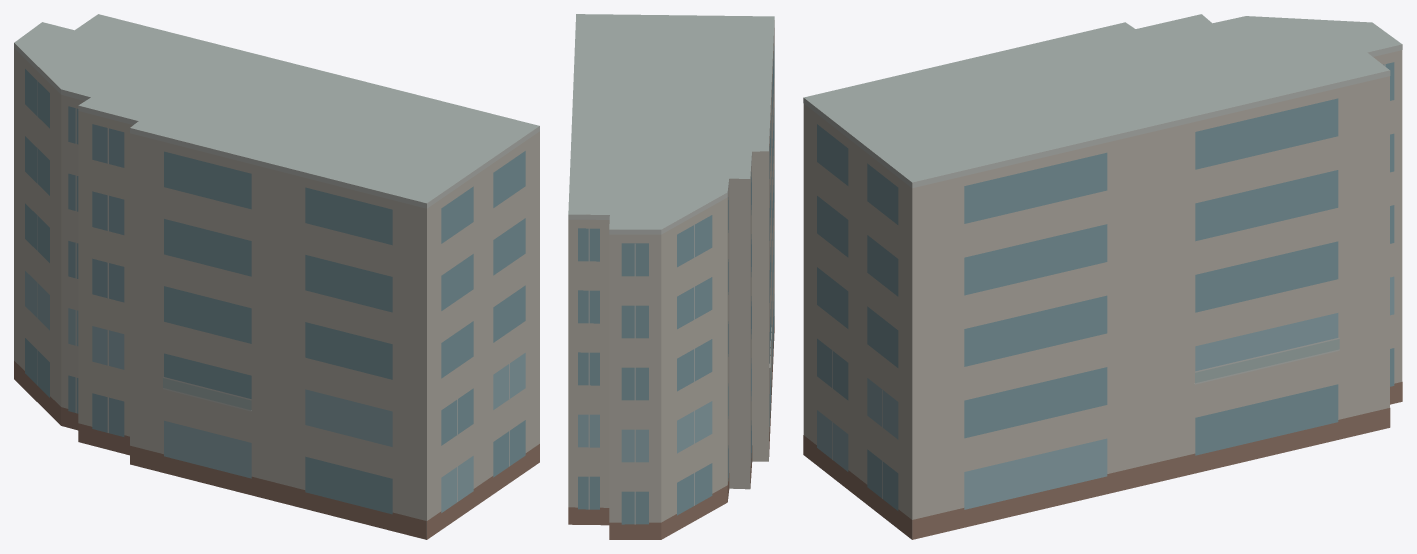
The model's file is survey-upis-32756742.glb.
3 views of the same model, side by side, from view 1: azimuth 30°, elevation 25°; view 2: azimuth 150°, elevation 25°; view 3: azimuth 270°, elevation 25° (orthographic). The views are drawn at different scales.
Parts seen in each view (by area): view 1: survey-upis-32756742.tmp; view 2: survey-upis-32756742.tmp; view 3: survey-upis-32756742.tmp.
Boxes of the visible parts, x1,y1,x2,y2 form: survey-upis-32756742.tmp: (14,14,539,539); survey-upis-32756742.tmp: (568,14,774,539); survey-upis-32756742.tmp: (803,14,1402,539).
Size of the model in its own units: 15.44 by 15.25 by 23.18.
